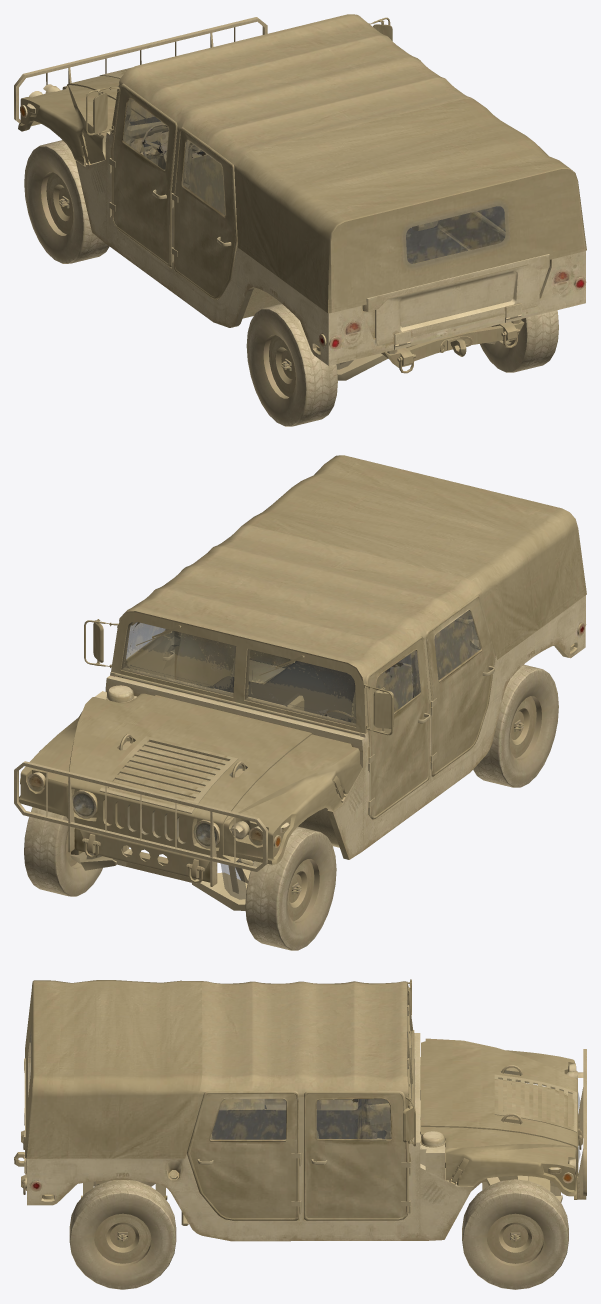
The model's file is hmmwv.glb.
3 renders of one model, top to bottom at view 1: azimuth 30°, elevation 25°; view 2: azimuth 150°, elevation 25°; view 3: azimuth 270°, elevation 25°, orthographic. The views are drawn at different scales.
Parts seen in each view (by area): view 1: V_hmmwv; view 2: V_hmmwv; view 3: V_hmmwv.
Part boxes in pixels (x1,y1,x2,y2): V_hmmwv: (14, 14, 586, 426); V_hmmwv: (14, 455, 586, 950); V_hmmwv: (14, 979, 586, 1289).
Size of the model in its own units: 6.98 by 5.11 by 12.8.
Materials: 10 (8 with a texture image).
